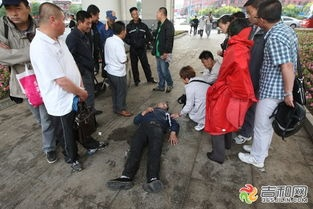falling: (106, 98, 183, 188)
